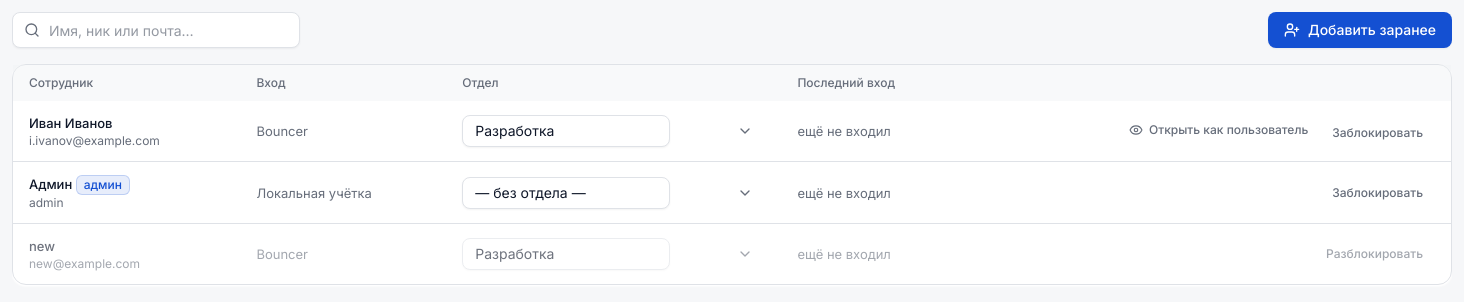
EmployeesTab › поиск по имени без учёта регистра оставляет только подходящего сотрудника
Expected: the text "Админ" is shown, [29, 176, 72, 192]
Type "иВАН" into the field named "Поиск сотрудника" at (156, 30), box [12, 12, 300, 48]
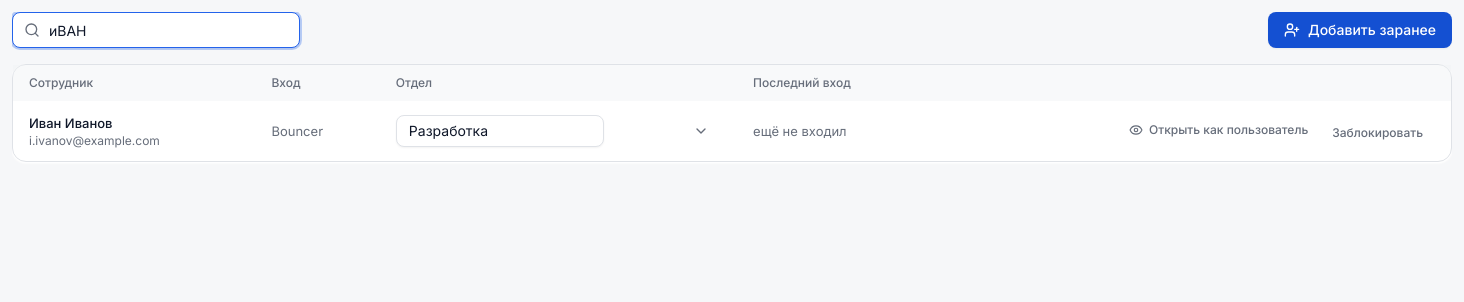
Expected: the text "Иван Иванов" is shown, [29, 115, 112, 131]
Now the text "админ" is gone
Now the text "new" is gone
